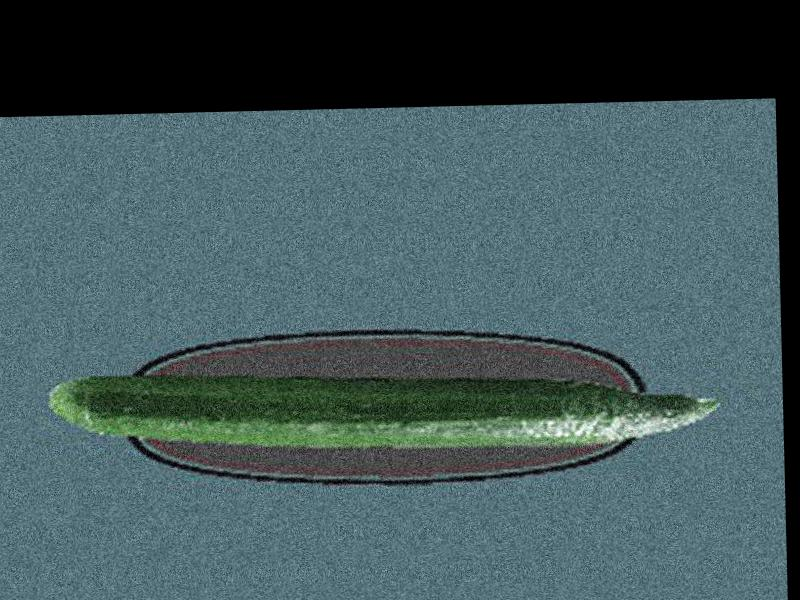Cucumber: (46, 358, 720, 456)
